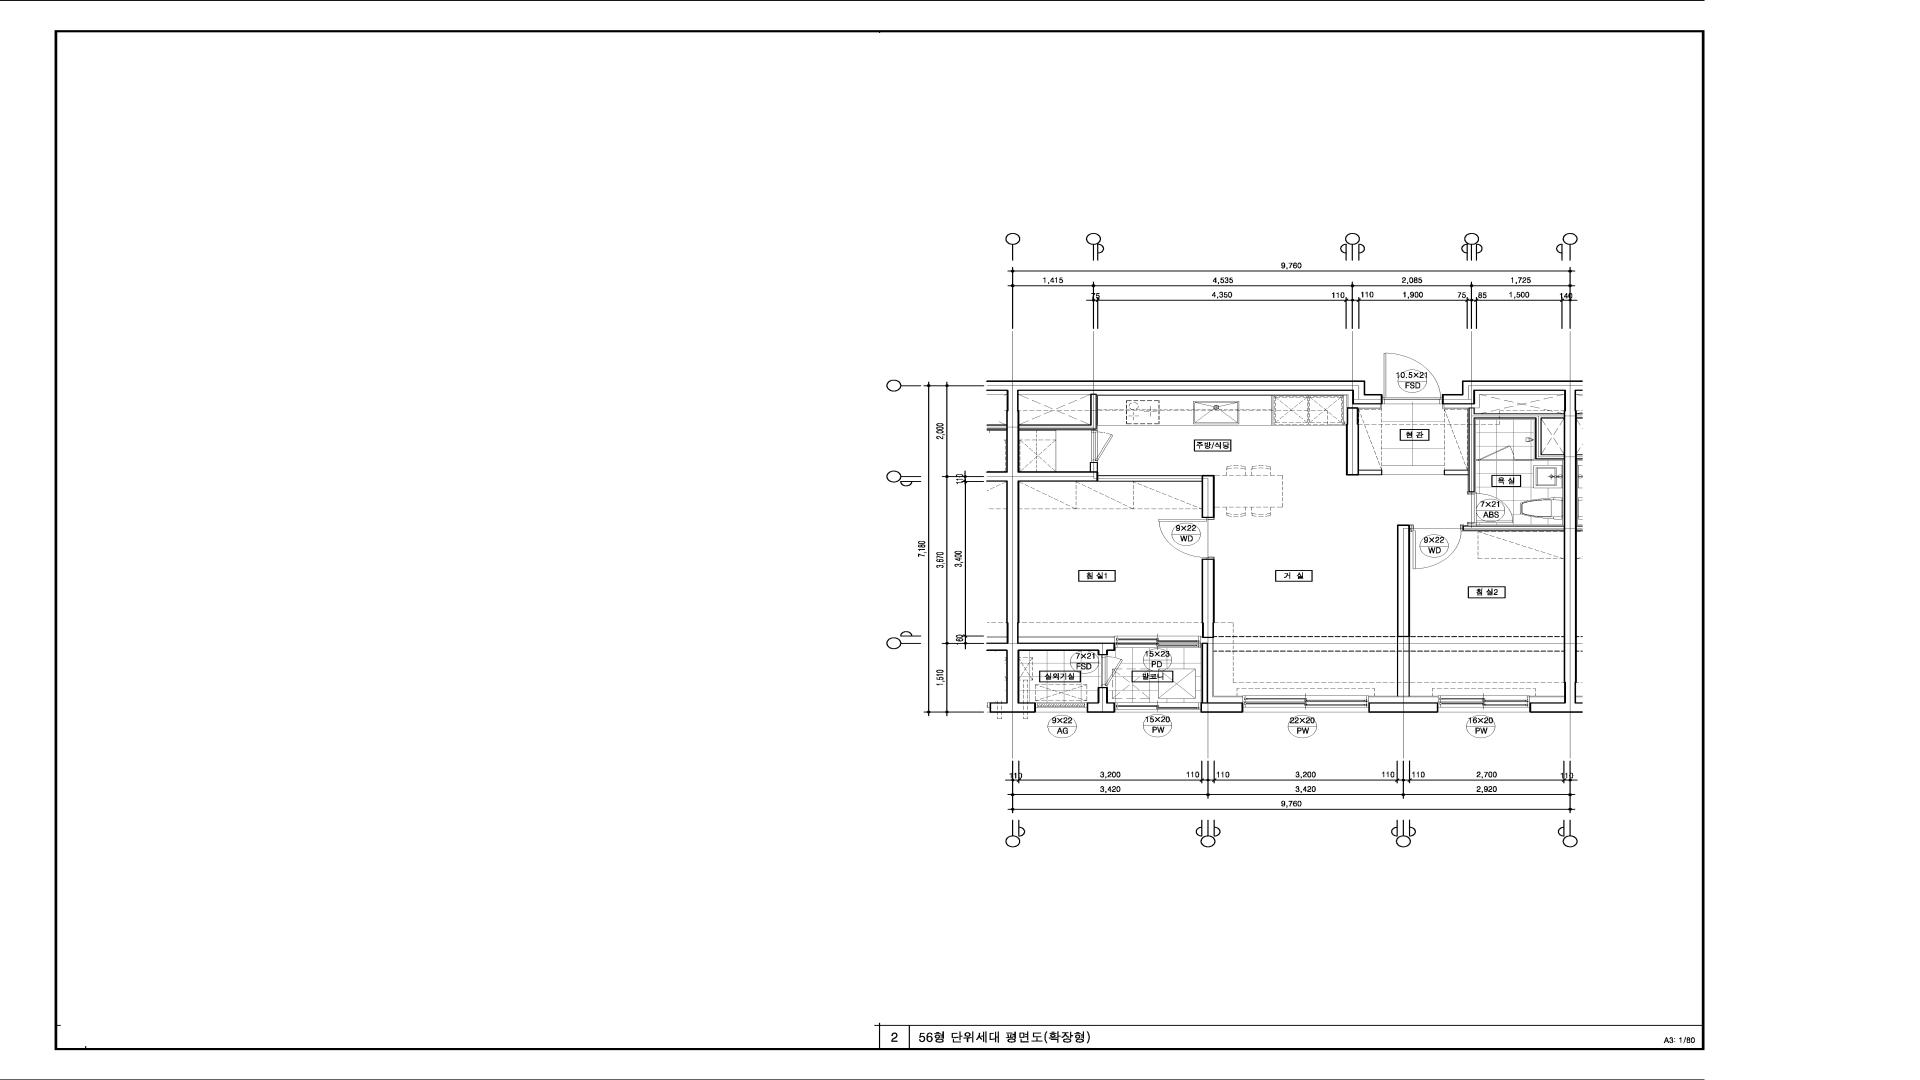door: (1382, 352, 1443, 405), (1410, 525, 1462, 570), (1159, 518, 1215, 559), (1469, 492, 1513, 526), (1101, 655, 1124, 687), (1092, 430, 1113, 462), (1476, 446, 1514, 460)
wall: (1006, 380, 1382, 712), (1443, 380, 1577, 712), (1444, 407, 1564, 492), (1098, 475, 1215, 518), (1018, 394, 1097, 430), (1346, 407, 1382, 475), (1396, 525, 1410, 696), (1203, 559, 1215, 638), (1087, 687, 1116, 713), (1369, 703, 1439, 713), (1200, 703, 1244, 713), (1462, 526, 1564, 530), (1201, 642, 1208, 703), (1089, 462, 1098, 471), (1514, 459, 1534, 460)
window: (1244, 695, 1369, 712), (1437, 695, 1530, 713), (1114, 636, 1201, 647), (1116, 703, 1200, 713), (1036, 703, 1087, 713)
